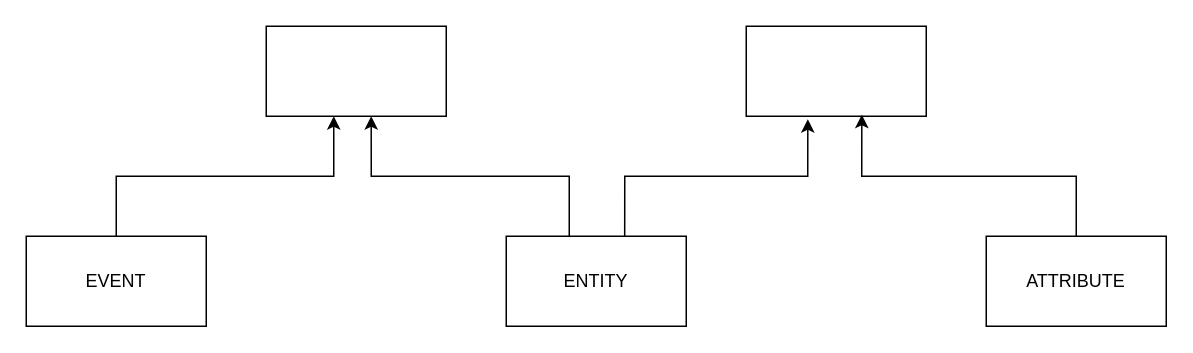
This 1193x353 diagram has some shape labels left out. Here are the shapes that lost their labels. From the top down, the centre of each, then its label:
(x=355, y=70): PROCESS
(x=835, y=70): POSSESSES
